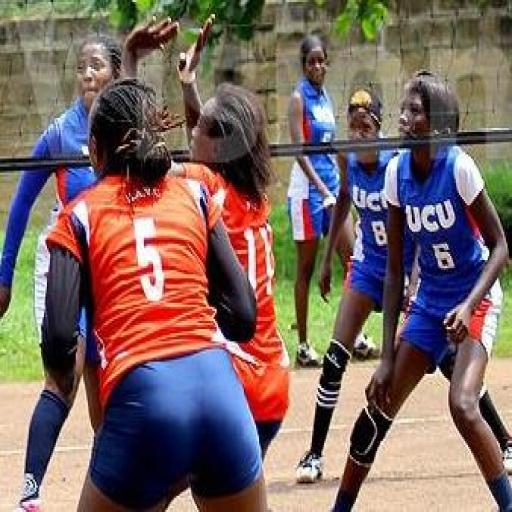person: (41, 80, 266, 511), (334, 143, 511, 511), (179, 17, 289, 455), (296, 151, 395, 483), (0, 165, 95, 331), (288, 153, 339, 367)
